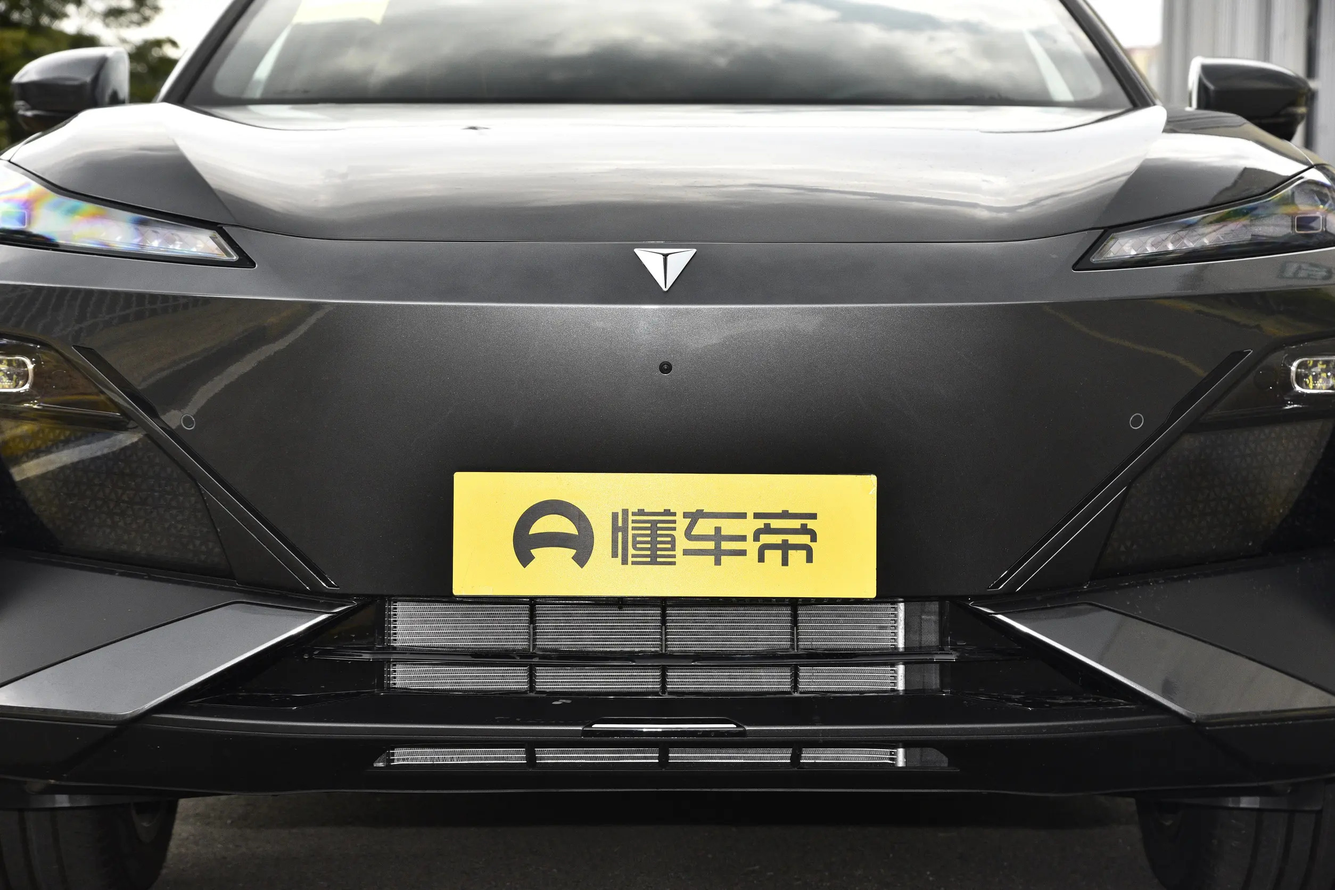Deepal: (634, 248, 697, 290)
